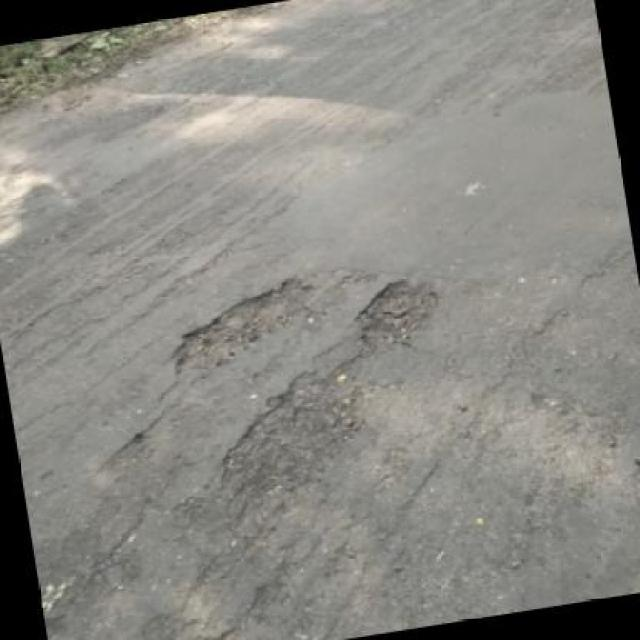pothole: (203, 363, 382, 506), (158, 271, 328, 378), (345, 272, 450, 359)
